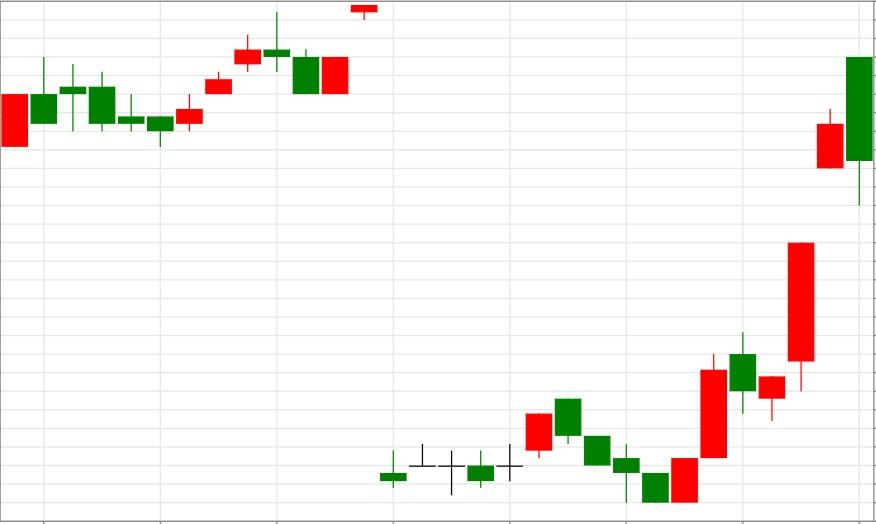bullish_engulfing_rise: (554, 398, 699, 505)
three_white_soldiers_rise: (59, 34, 261, 148)
